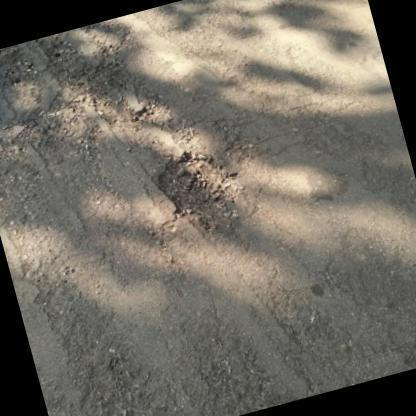pothole: (0, 37, 172, 124), (151, 148, 246, 240)
